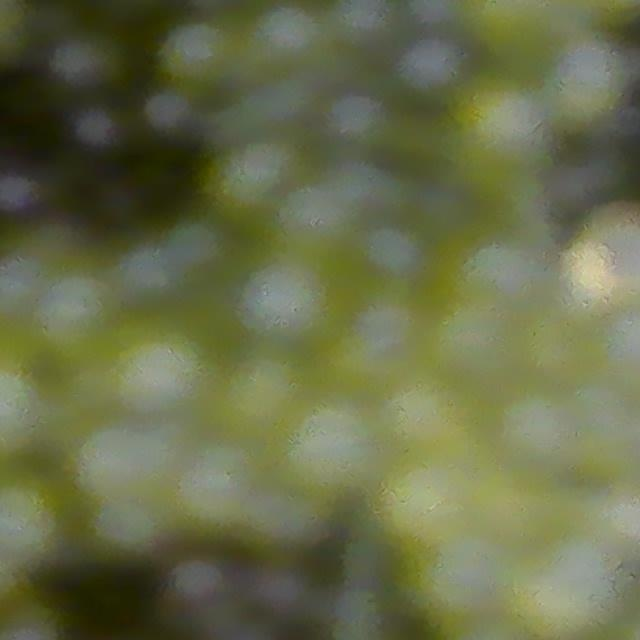SeaGrape: (98, 304, 216, 420), (505, 525, 624, 640), (268, 388, 382, 502), (449, 71, 554, 179), (236, 246, 341, 349), (542, 32, 635, 130), (69, 417, 169, 507), (206, 134, 299, 219), (34, 267, 118, 352), (246, 0, 331, 81), (158, 17, 243, 96), (0, 472, 68, 567), (392, 31, 466, 105), (161, 216, 226, 278), (325, 90, 388, 150), (142, 85, 197, 140), (404, 0, 466, 34)
